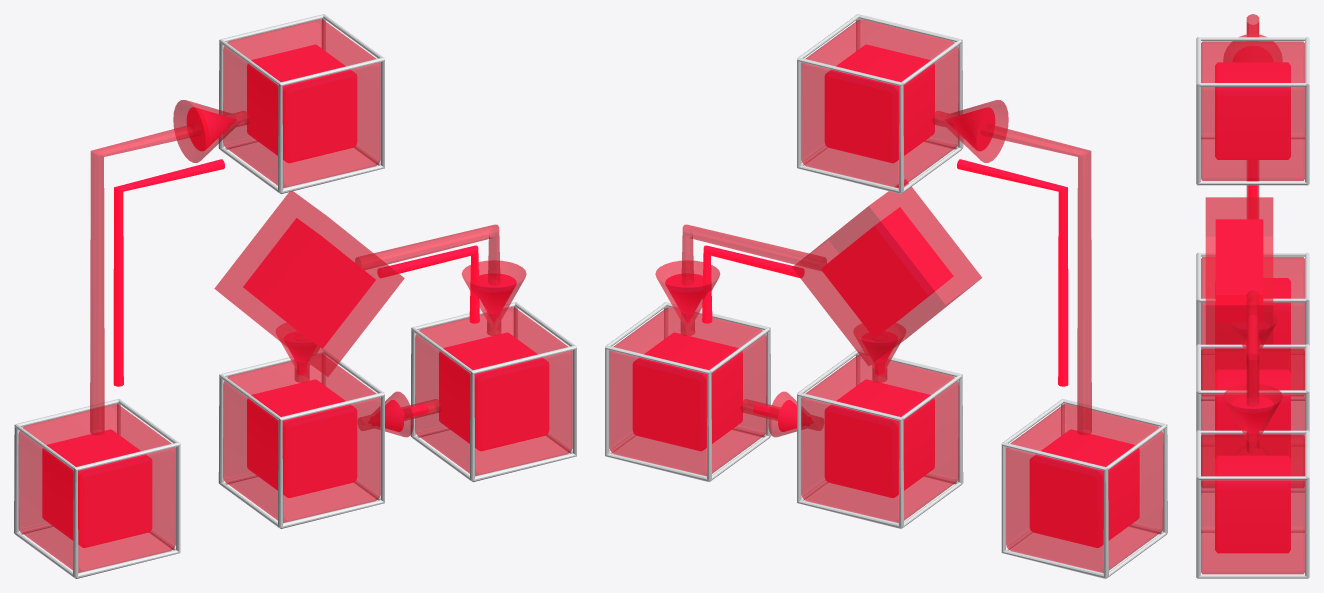
File: 17-workflow.glb
3 views of the same model, side by side, from view 1: azimuth 30°, elevation 25°; view 2: azimuth 150°, elevation 25°; view 3: azimuth 270°, elevation 25° (orthographic). The views are drawn at different scales.
Parts seen in each view (by area): view 1: BC ruby optical glass, BC internal ruby light, BC polished iron bevel; view 2: BC ruby optical glass, BC internal ruby light, BC polished iron bevel; view 3: BC ruby optical glass, BC internal ruby light, BC polished iron bevel.
Part boxes in pixels (x1,y1,x2,y2): BC ruby optical glass: (18,19,572,572); BC internal ruby light: (42,44,549,547); BC polished iron bevel: (14,14,576,578); BC ruby optical glass: (609,19,1163,572); BC internal ruby light: (632,44,1139,547); BC polished iron bevel: (605,14,1167,578); BC ruby optical glass: (1201,14,1304,574); BC internal ruby light: (1215,46,1290,553); BC polished iron bevel: (1196,37,1309,578).
Bounding box in the file's own units: 1.97 × 1.67 × 0.4171.
